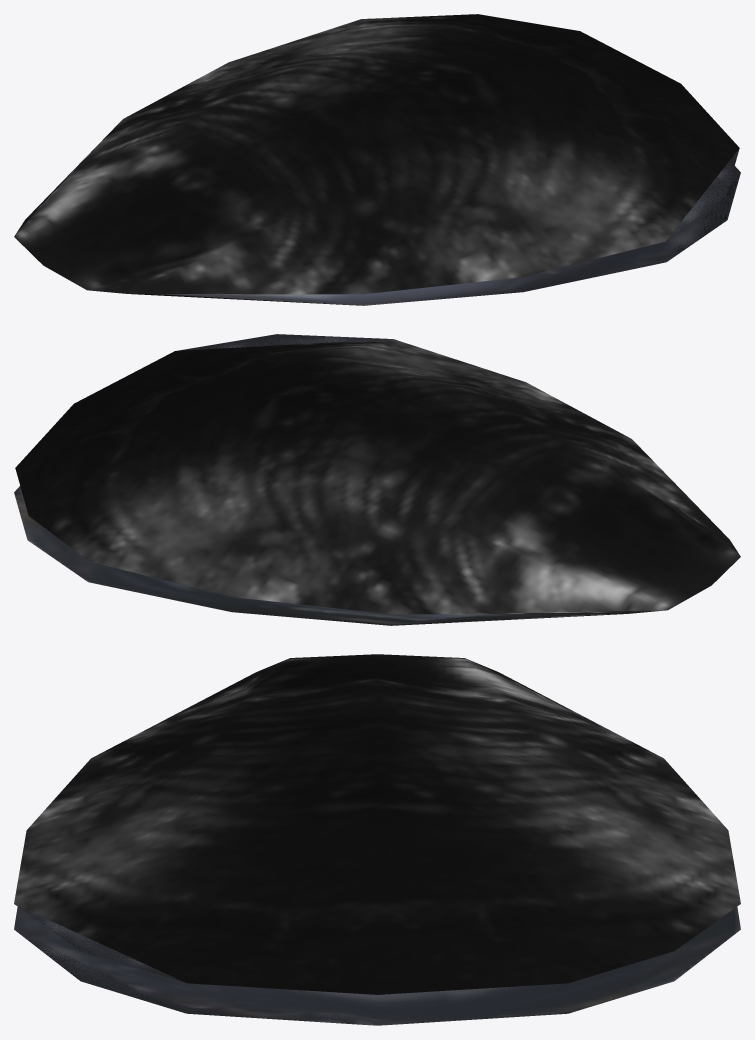
The model's file is musselClose.fbx.
The picture shows the model from 3 angles, top to bottom: view 1: azimuth 30°, elevation 25°; view 2: azimuth 150°, elevation 25°; view 3: azimuth 270°, elevation 25°; orthographic projection. The views are drawn at different scales.
Visible parts, largest first — view 1: musselCloseObject; view 2: musselCloseObject; view 3: musselCloseObject.
Part boxes in pixels (x1,y1,x2,y2): musselCloseObject: (14,14,740,305); musselCloseObject: (14,334,740,625); musselCloseObject: (14,654,740,1025).
Bounding box in the file's own units: 0.1213 × 0.0287 × 0.0999.
1 material, 1 textured.
